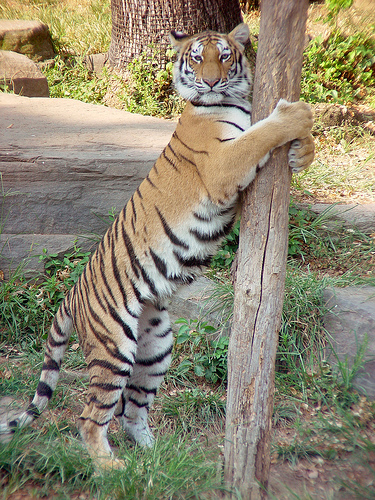Tigre: (39, 22, 279, 466)
